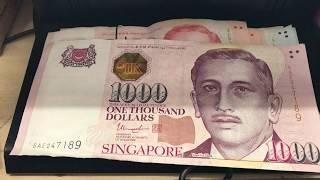1000SingaporeDollar: (33, 45, 320, 160)
